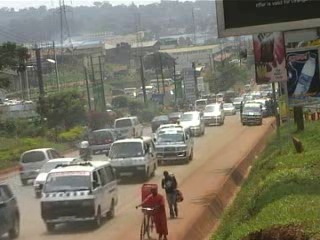Car: (30, 157, 83, 200), (14, 146, 65, 186), (0, 180, 26, 237), (89, 127, 128, 155), (176, 109, 206, 138), (199, 103, 227, 128), (148, 113, 171, 133), (222, 101, 236, 118), (167, 110, 184, 123)
Motorcycle: (77, 137, 94, 163)
